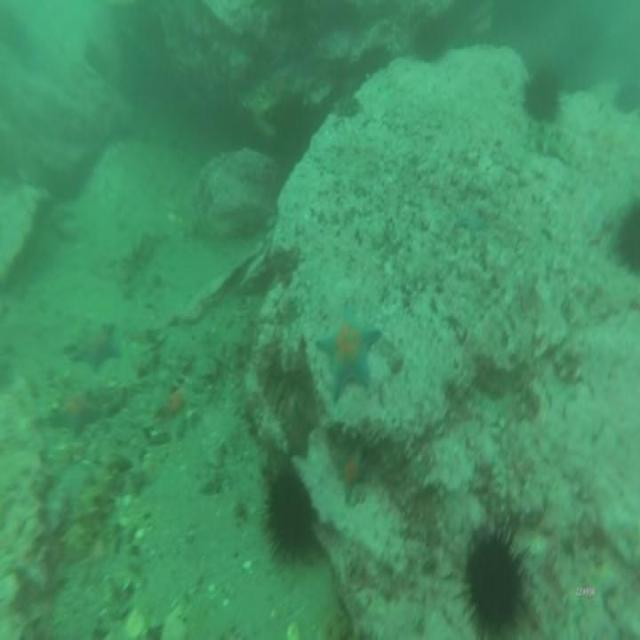echinus: (456, 518, 530, 640), (264, 458, 317, 566), (520, 70, 564, 128), (612, 197, 640, 283), (410, 17, 450, 68), (610, 77, 640, 118)
holothurian: (61, 479, 119, 564)
starfish: (312, 302, 384, 406), (6, 547, 67, 619), (65, 314, 123, 378), (49, 388, 103, 438), (332, 442, 374, 502), (278, 398, 316, 463)
